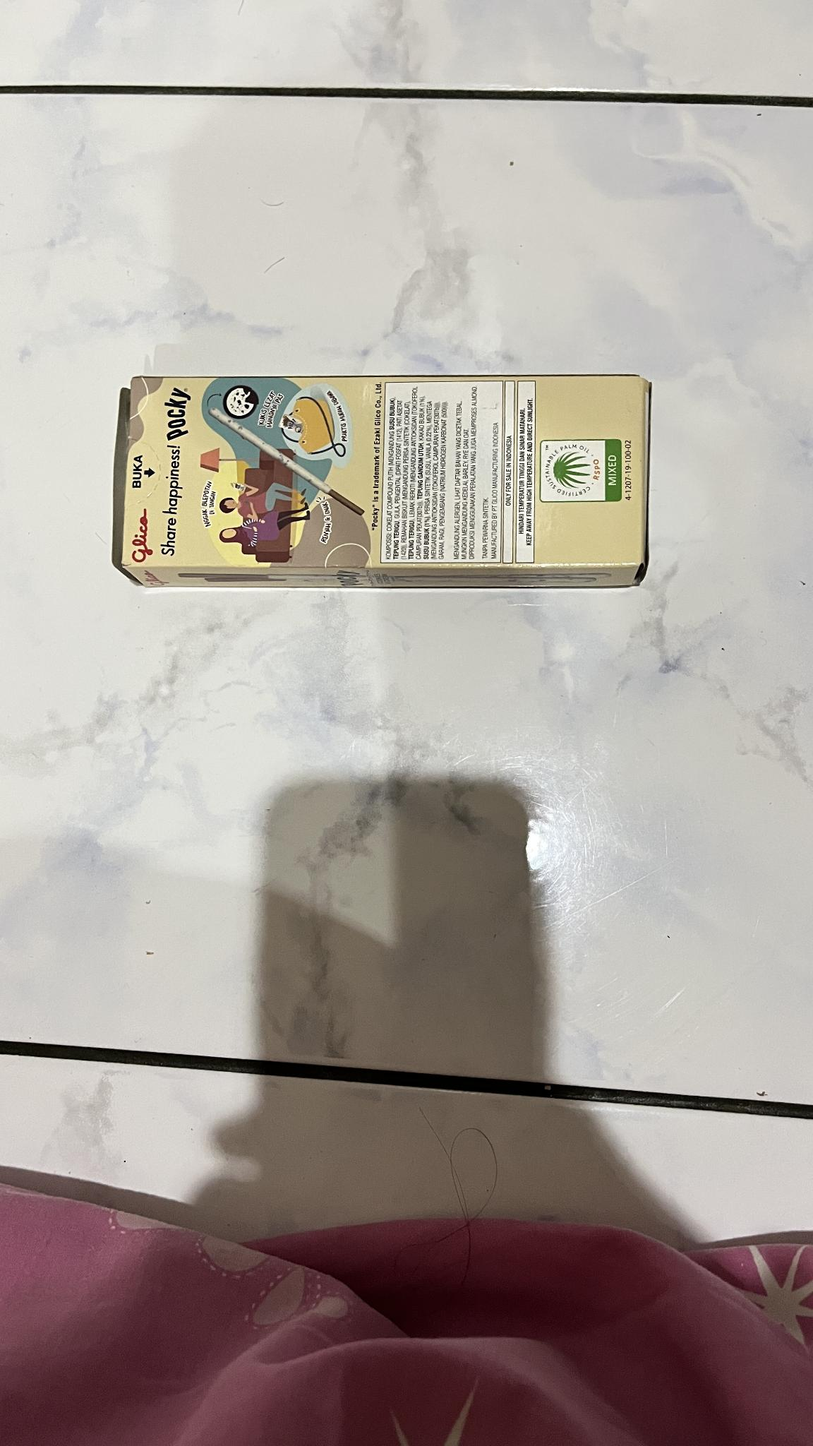Kertas: (115, 380, 652, 588)
